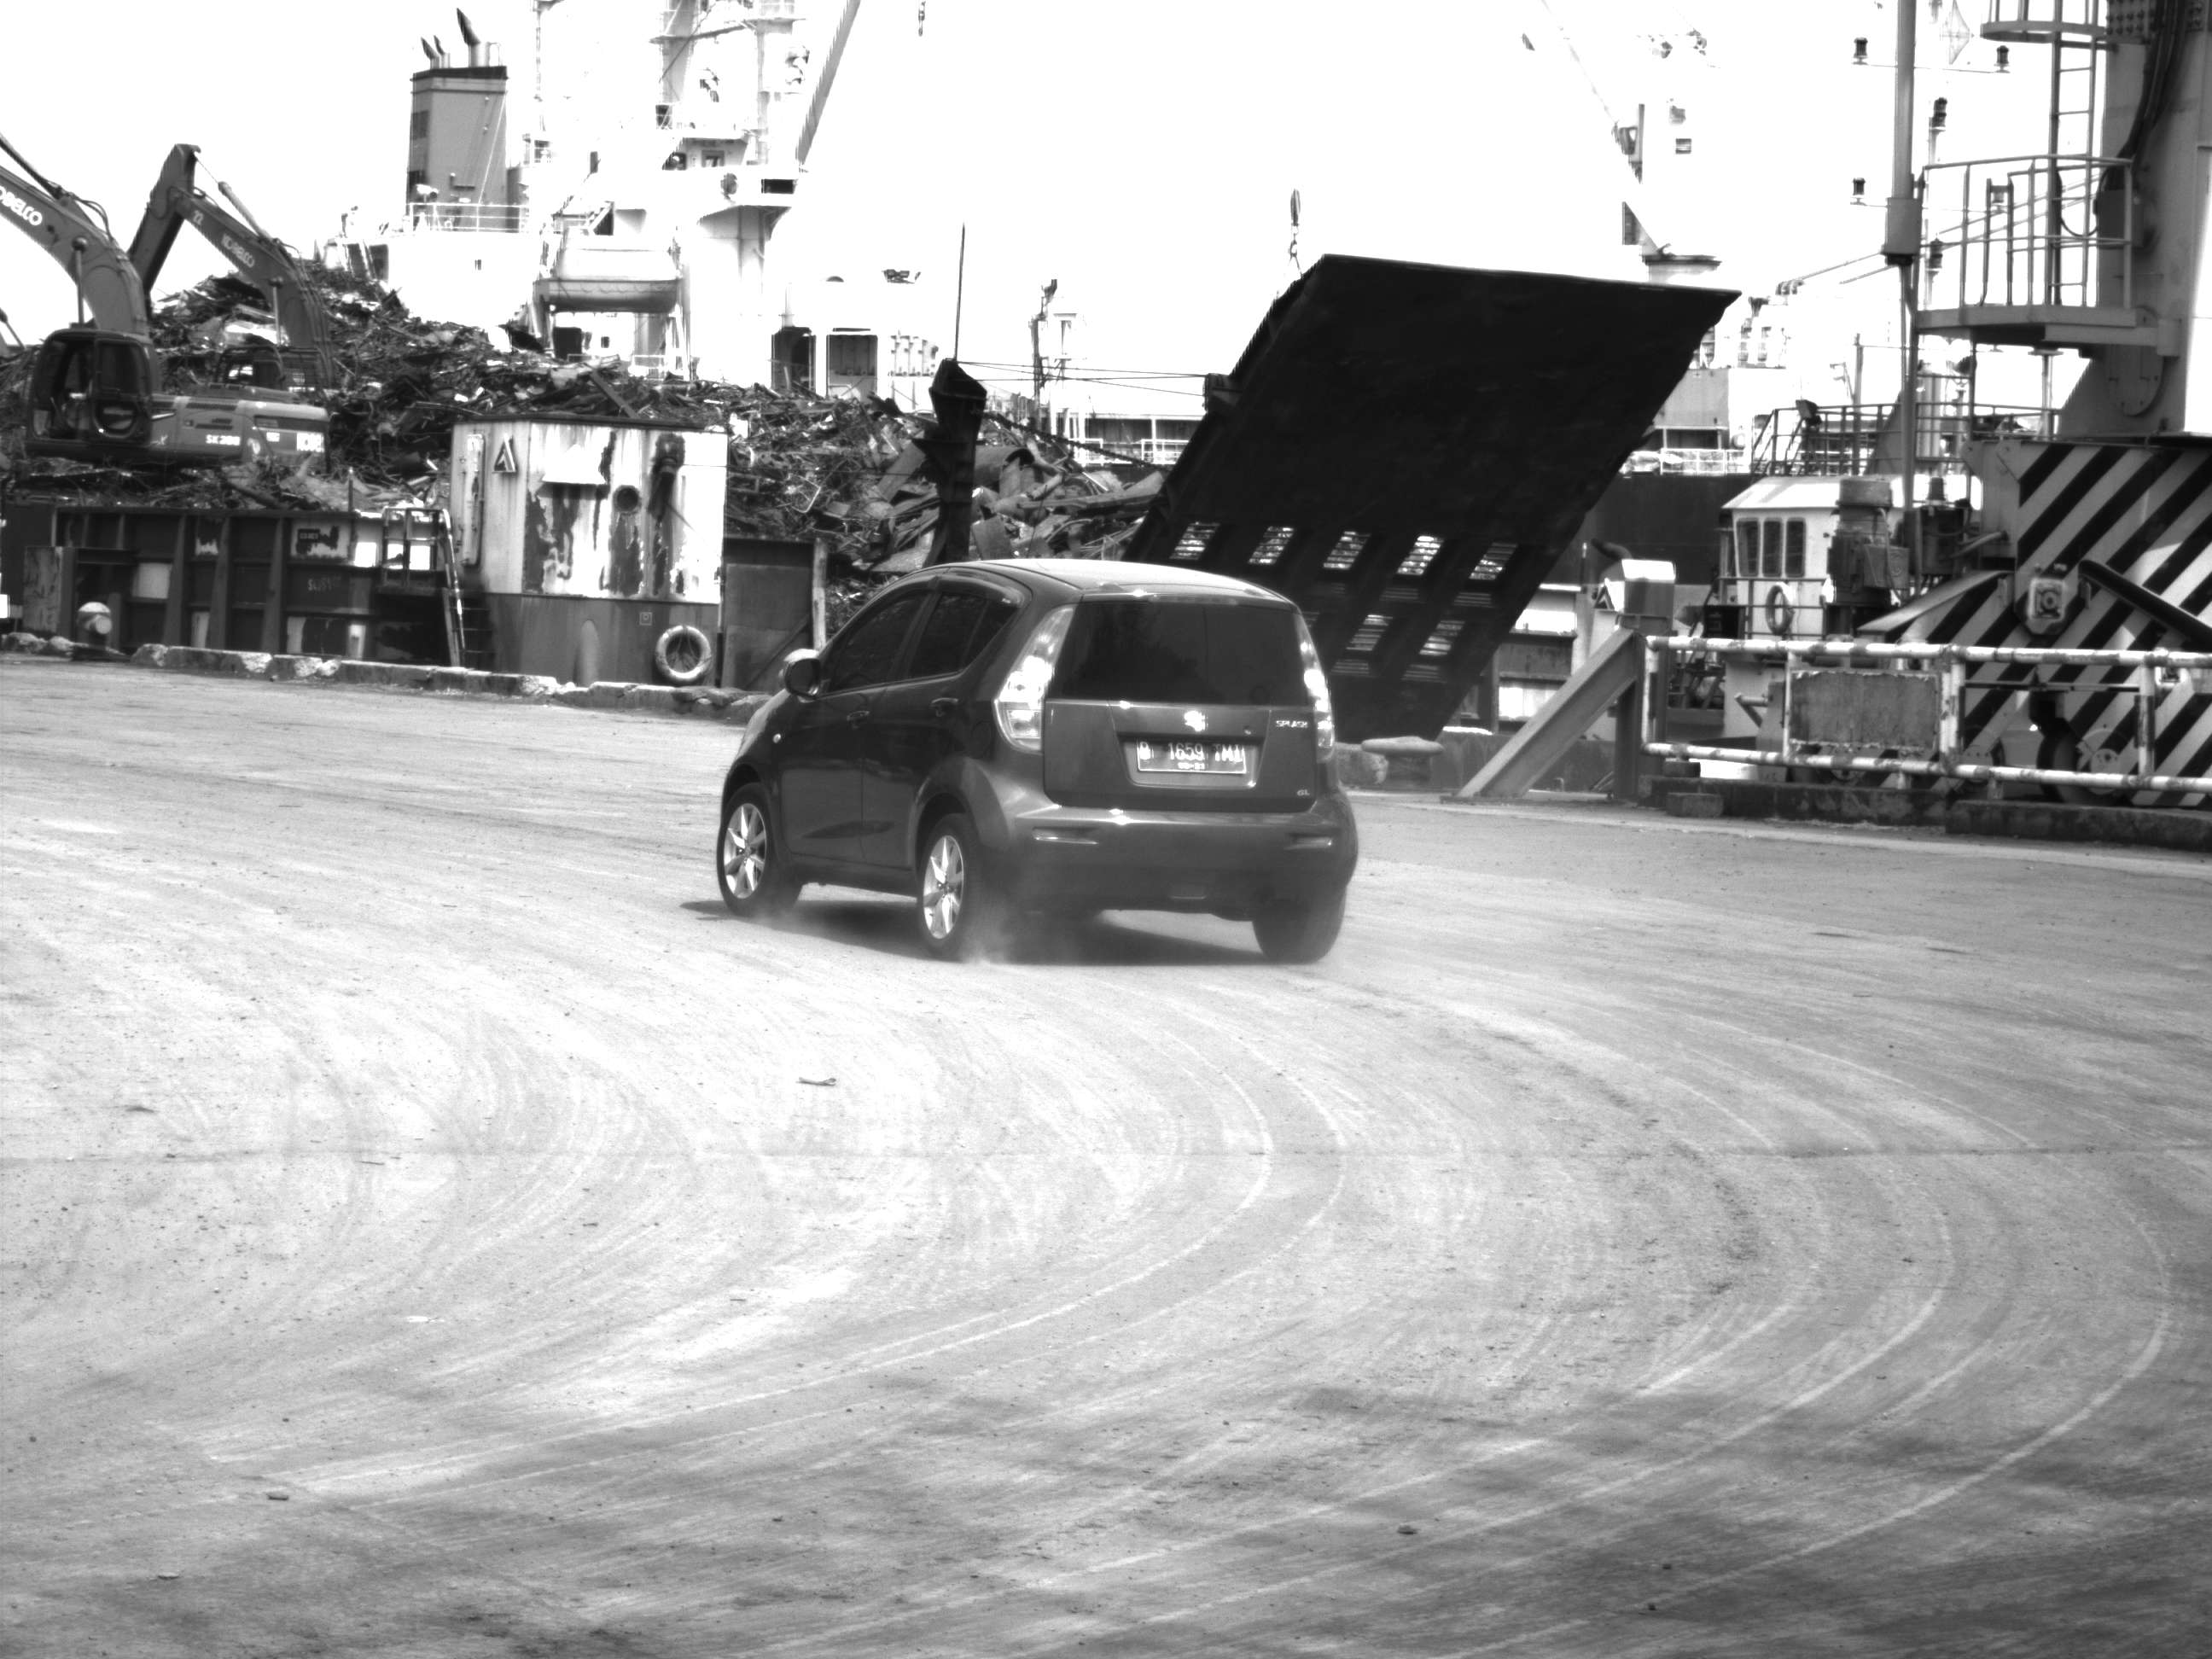day_small_rear: (708, 573, 1370, 942)
plate: (1131, 732, 1257, 783)
